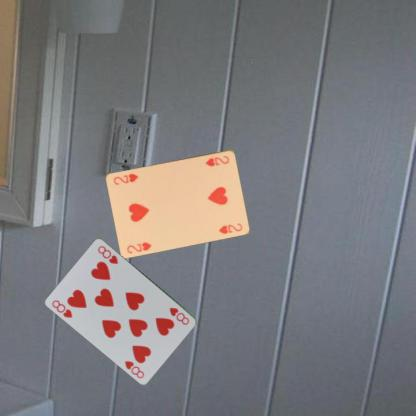2h: (124, 239, 153, 254), (204, 153, 231, 168)
8h: (167, 304, 191, 326), (50, 297, 74, 319)
